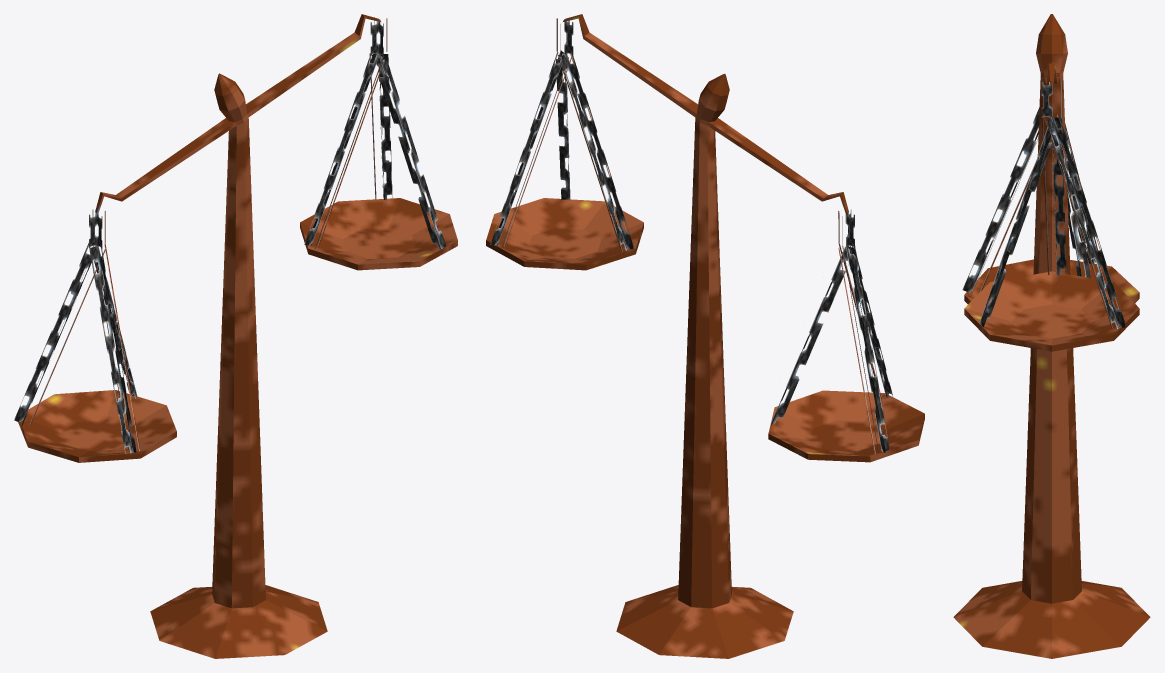
Rendered from SM_Dungeon_Scale_Lopsided.fbx.
3 renders of one model, left to right at view 1: azimuth 30°, elevation 25°; view 2: azimuth 150°, elevation 25°; view 3: azimuth 270°, elevation 25°, orthographic. The views are drawn at different scales.
Parts seen in each view (by area): view 1: SM_Dungeon_Scale.001; view 2: SM_Dungeon_Scale.001; view 3: SM_Dungeon_Scale.001.
Part boxes in pixels (left/top/right/bottom): SM_Dungeon_Scale.001: left=14, top=14, right=457, bottom=658; SM_Dungeon_Scale.001: left=486, top=14, right=924, bottom=658; SM_Dungeon_Scale.001: left=953, top=14, right=1150, bottom=658.
Bounding box in the file's own units: 72.24 × 94 × 27.17.
